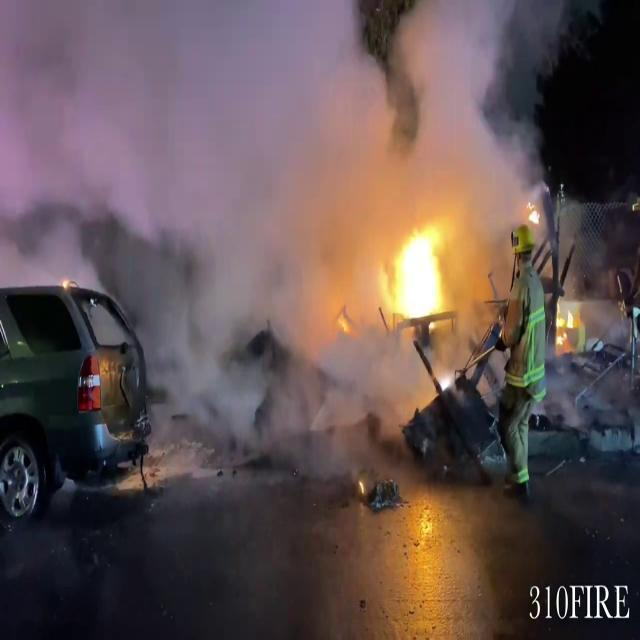Fire: (384, 221, 456, 327)
Smoke: (2, 0, 554, 427)
